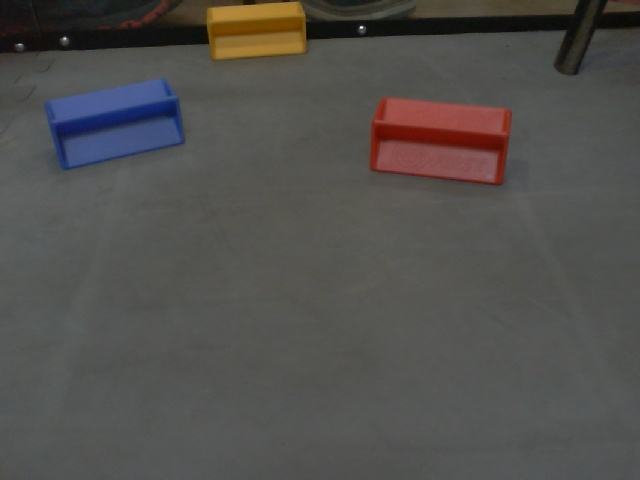BlueSample: (42, 75, 187, 172)
RedSample: (368, 96, 516, 188)
YellowSample: (206, 1, 307, 63)
